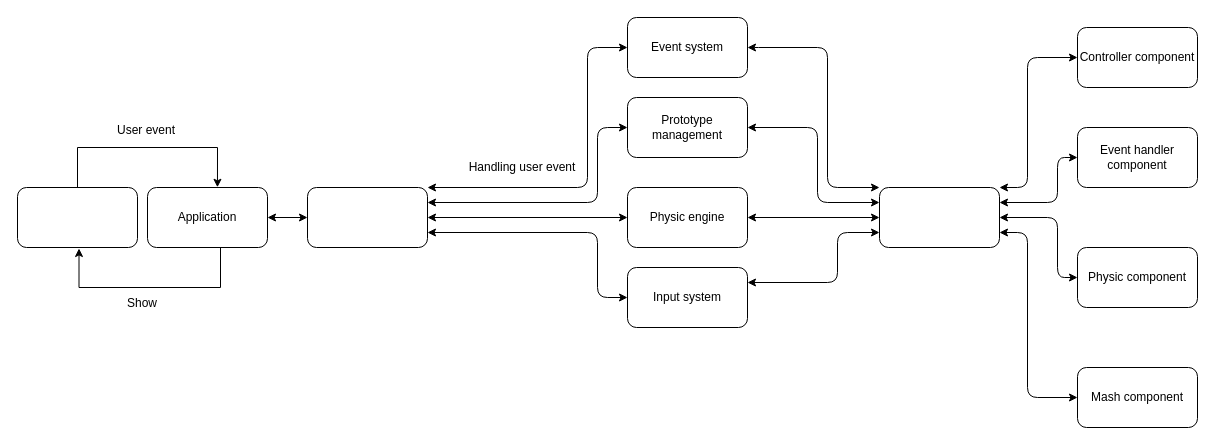
The diagram is 1215 pixels wide and 445 high, and some of its shapes have lost their labels. The shapes that lost their labels are listed below. From the top down, each one's centre as x and y in pixels, then its label:
At [77,217]: "User".
At [367,217]: "Engine".
At [939,217]: "Entity".
